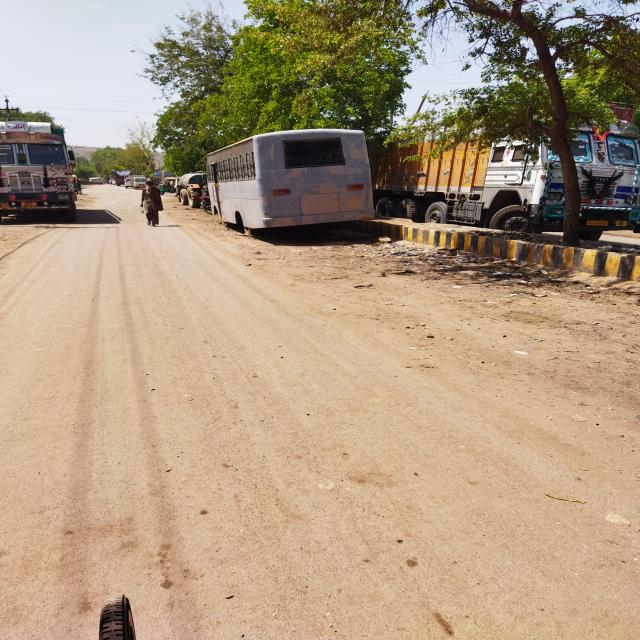Bus: (200, 134, 378, 233)
